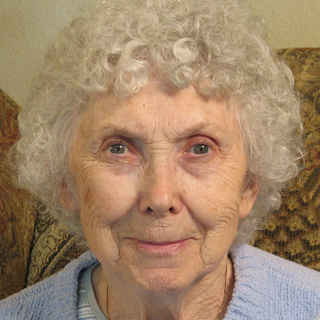eye: (97, 136, 143, 163), (178, 136, 222, 163)
